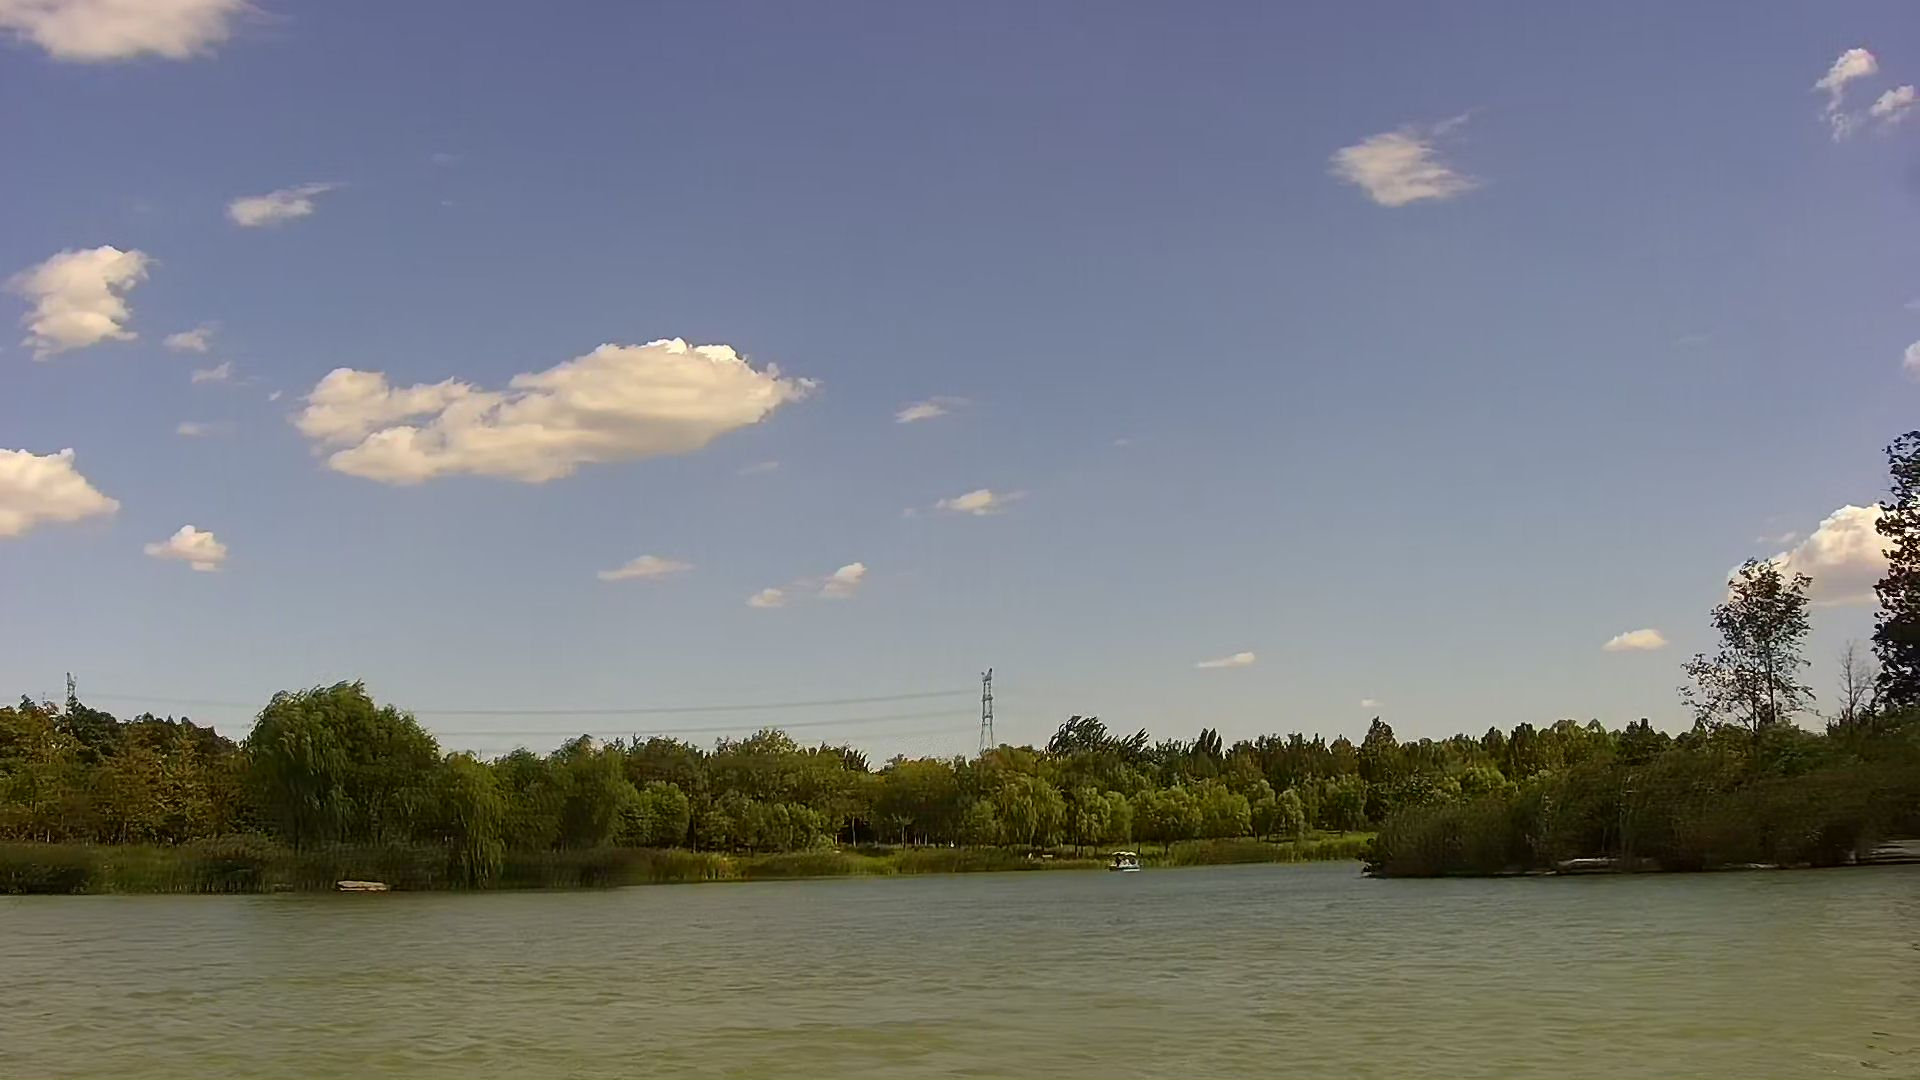boat: (1109, 851, 1139, 870)
rock: (1846, 837, 1917, 857), (1561, 857, 1639, 873), (336, 876, 382, 891)
